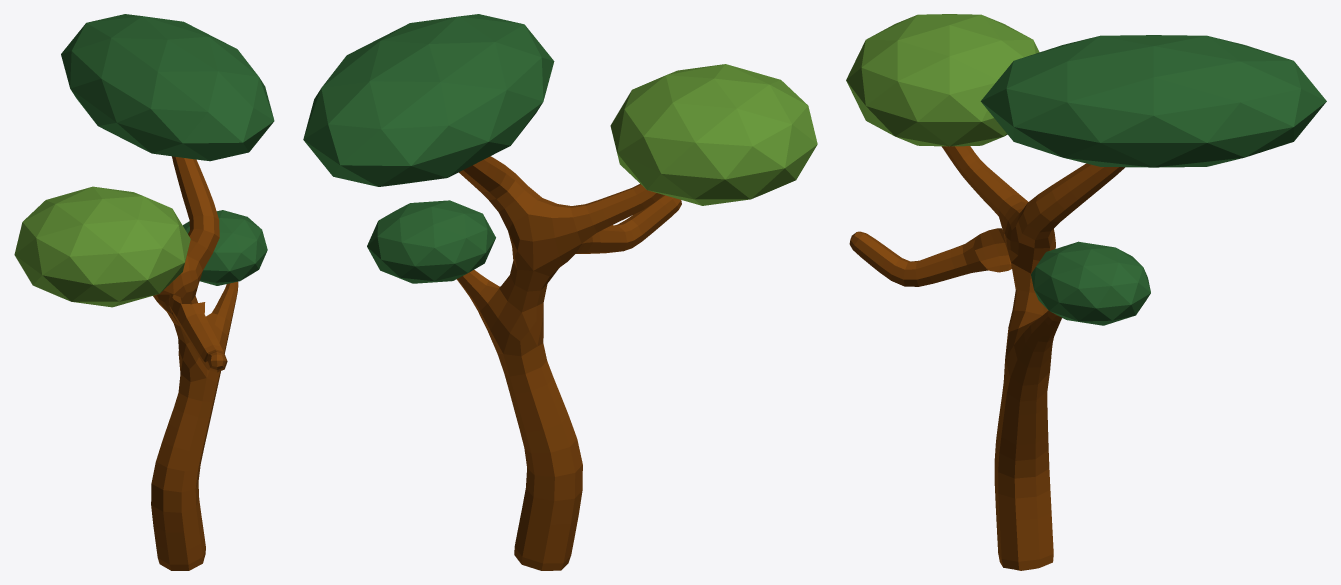
The model's file is Albero 3.fbx.
3 views of the same model, side by side, from view 1: azimuth 30°, elevation 25°; view 2: azimuth 150°, elevation 25°; view 3: azimuth 270°, elevation 25° (orthographic). The views are drawn at different scales.
Visible parts, largest first — view 1: Icosphere.002, Vert, Icosphere, Icosphere.003; view 2: Icosphere.002, Vert, Icosphere, Icosphere.003; view 3: Icosphere.002, Vert, Icosphere, Icosphere.003.
Part boxes in pixels (bbox=[...]): Icosphere.002: bbox=[61, 14, 274, 161]; Vert: bbox=[151, 156, 238, 570]; Icosphere: bbox=[14, 186, 190, 307]; Icosphere.003: bbox=[183, 210, 267, 285]; Icosphere.002: bbox=[303, 14, 554, 186]; Vert: bbox=[456, 156, 681, 570]; Icosphere: bbox=[610, 64, 817, 205]; Icosphere.003: bbox=[367, 200, 495, 283]; Icosphere.002: bbox=[980, 35, 1326, 167]; Vert: bbox=[849, 146, 1124, 570]; Icosphere: bbox=[846, 14, 1039, 146]; Icosphere.003: bbox=[1031, 241, 1150, 325].
Bounding box in the file's own units: 653 × 976 × 782.
